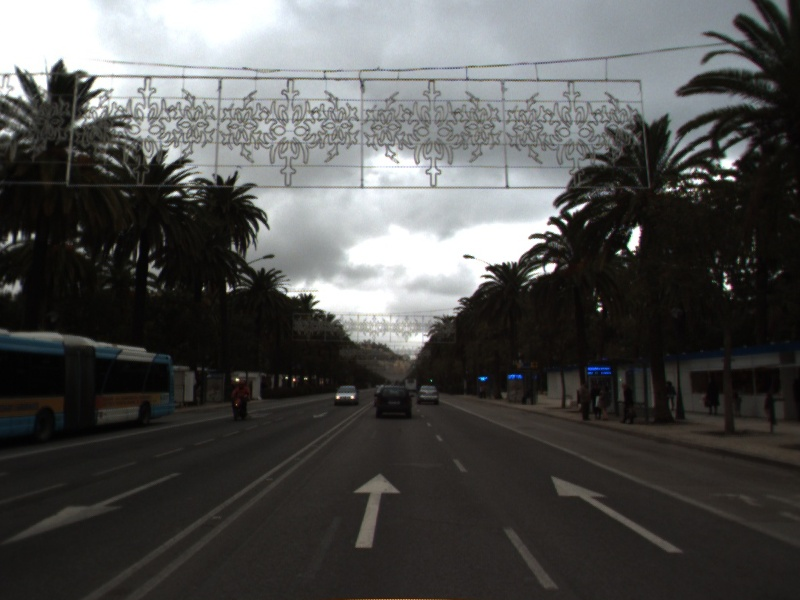STRAIGHT: (549, 473, 687, 556), (350, 470, 404, 550)
